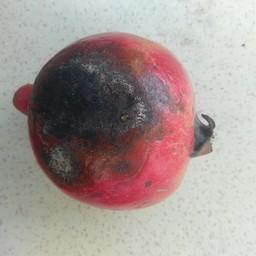Bad_pomegranate: (13, 32, 218, 217)
